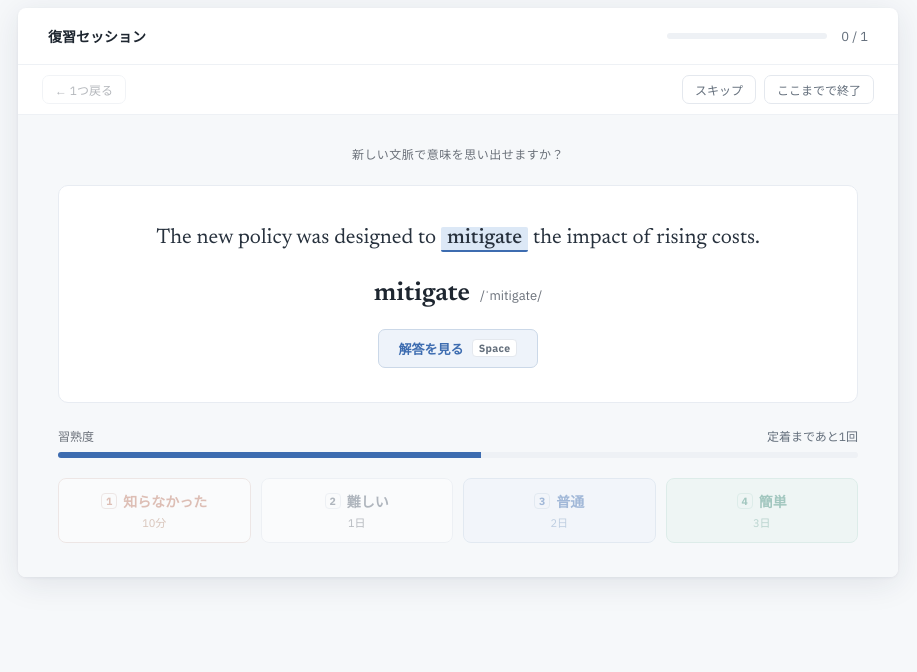
Scenario: <ReviewSession/> › signals completion when the queue is exhausted
The width and height of the screenshot is (917, 672).
Click the button with test id "review-reveal" at (458, 348), box 378,329 -> 538,368
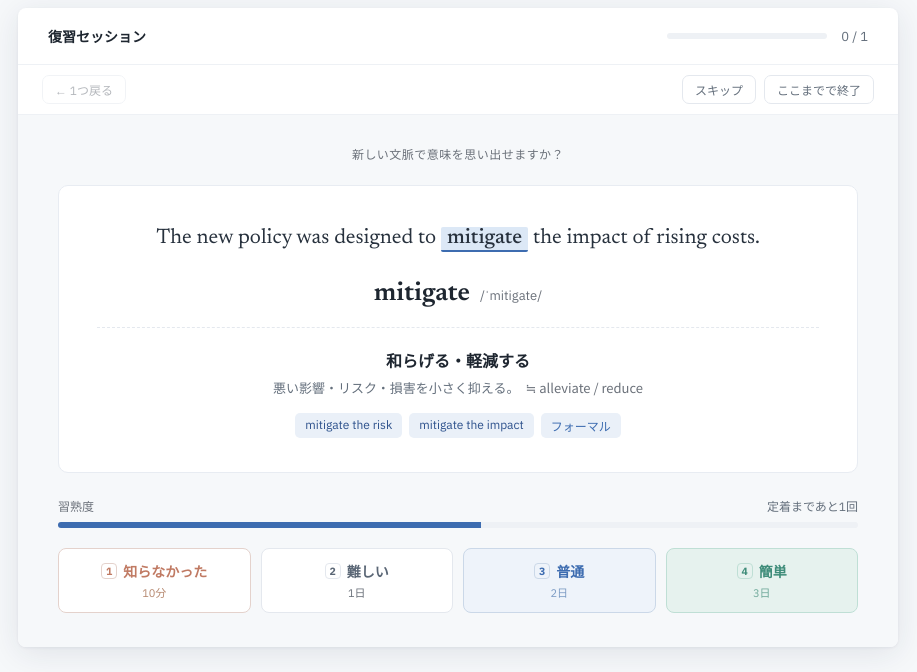
Click the button with test id "rate-3" at (559, 580), box 463,548 -> 656,613
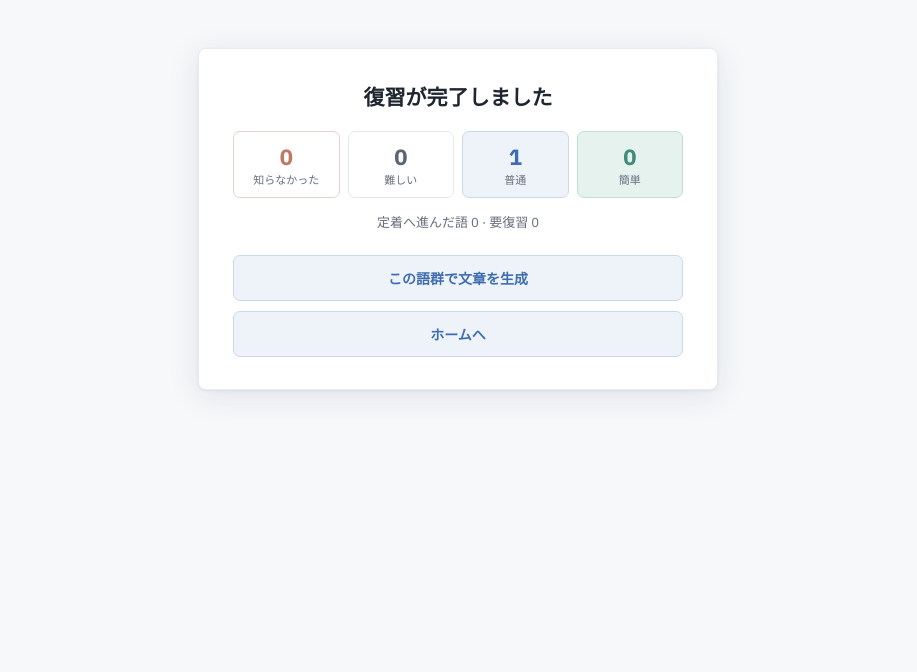
Expected: the text "復習が完了しました" is shown, 364,90 -> 552,111
